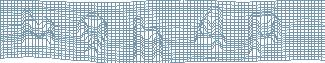4: (193, 6, 227, 53)
9: (76, 10, 109, 57)
P: (246, 11, 283, 58)
b: (21, 5, 56, 49)
h: (132, 14, 165, 62)
